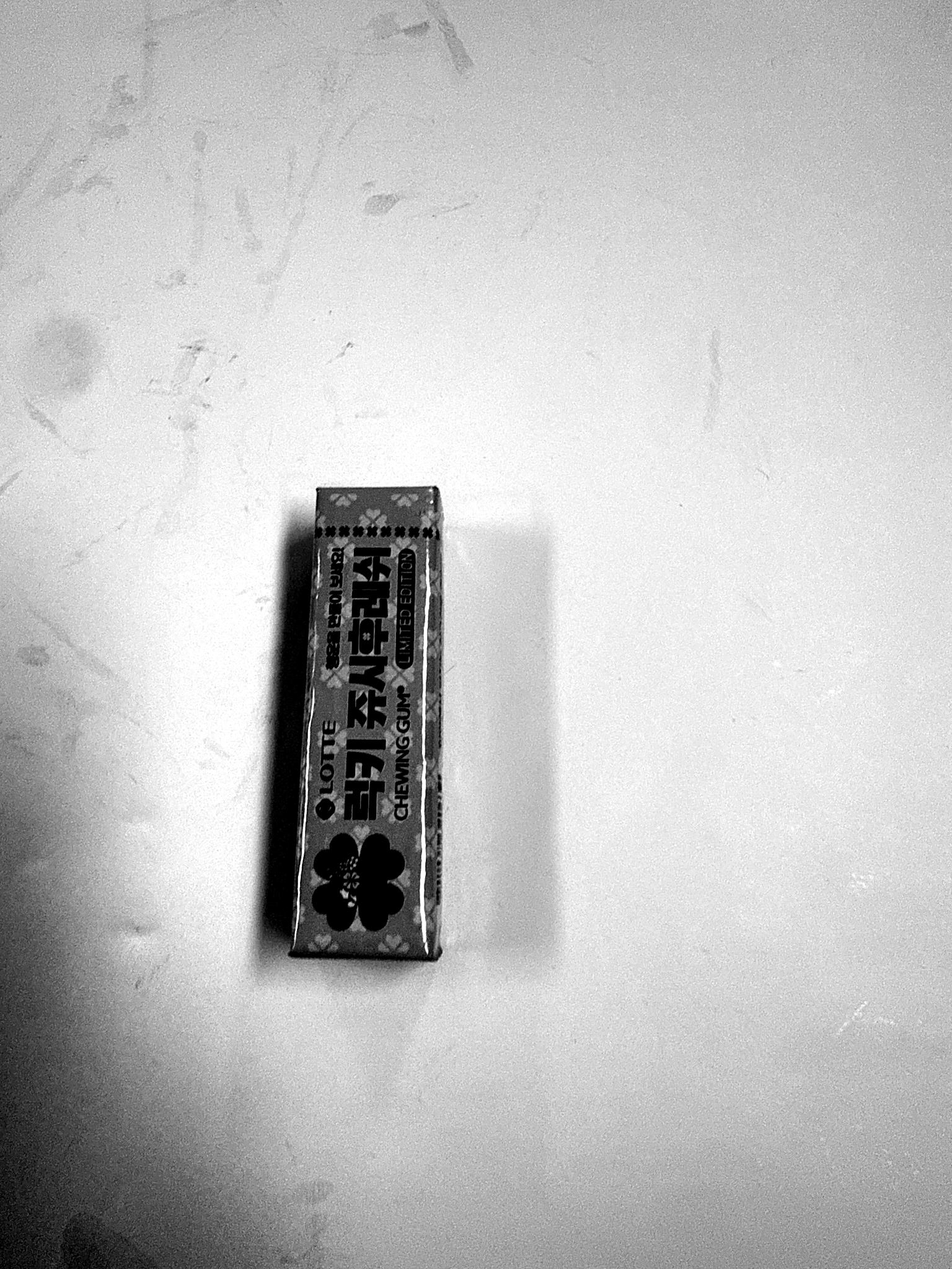gum_yellow: (291, 486, 444, 958)
